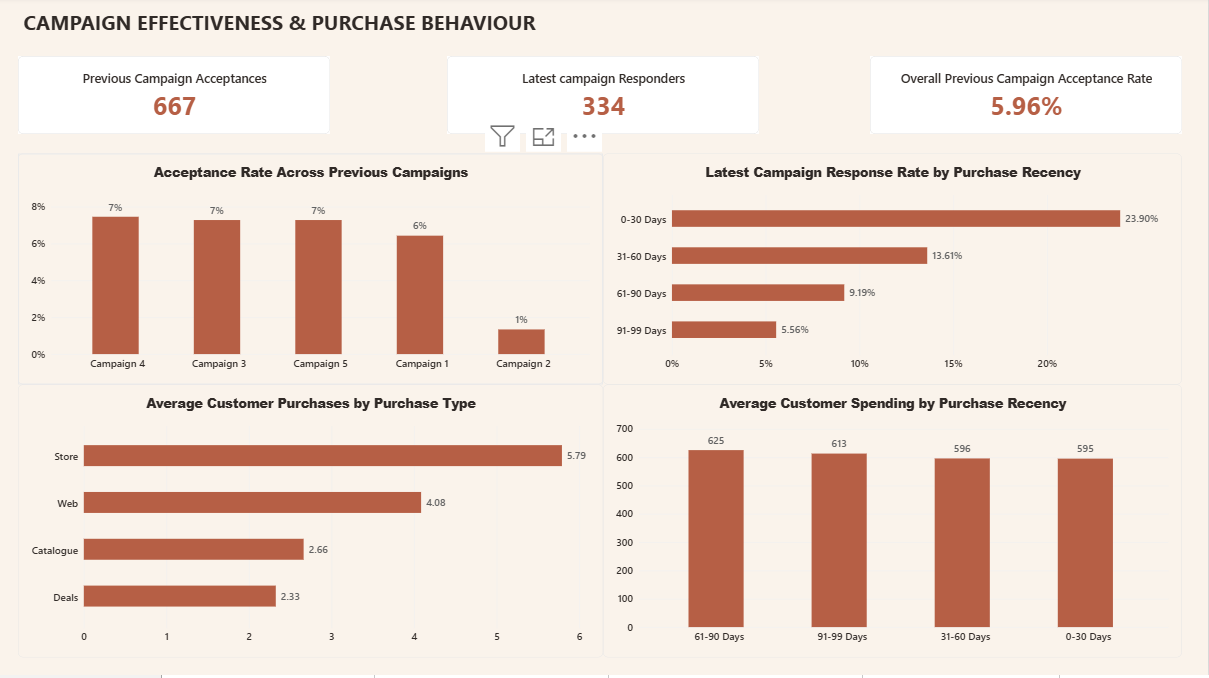

Layout of this report page (visuals, bound fields, positions):
{"tool":"powerbi","page":{"name":"Campaign Effectiveness ","canvas":[1920,1080],"ordinal":2},"visuals":[{"type":"textbox","box":[28.6,19.1,856.5,57.3],"z":0},{"type":"textbox","box":[16.7,76.3,622.7,64.4],"z":1000},{"type":"cardVisual","fields":{"Data":["Marketing Performance.Previous Campaign Acceptances"]},"box":[28.6,95.4,496.3,124.1],"z":2000},{"type":"cardVisual","fields":{"Data":["Marketing Performance.Latest campaign Responders"]},"box":[711,95.4,496.3,124.1],"z":3000},{"type":"cardVisual","fields":{"Data":["Marketing Performance.Previous Campaign Acceptance Rate"]},"box":[1383.8,95.4,496.3,124.1],"z":4000},{"type":"clusteredColumnChart","title":"Acceptance Rate Across Previous Campaigns","fields":{"Category":["Campaigns.Campaign"],"Y":["Marketing Performance.Campaign Acceptance Rate"]},"box":[28.6,250.5,930.5,367.4],"z":7000},{"type":"clusteredBarChart","title":"Average Customer Purchases by Purchase Type","fields":{"Category":["Purchase Types.Purchase Type"],"Y":["Purchase Types.Average Purchases by Type"]},"box":[28.6,618,930.5,434.2],"z":8000},{"type":"clusteredColumnChart","title":"Average Customer Spending by Purchase Recency","fields":{"Category":["Marketing Performance.Recency Group"],"Y":["Marketing Performance.Average Customer Spending"]},"box":[959.1,618,921,434.2],"z":9000},{"type":"clusteredBarChart","title":"Latest Campaign Response Rate by Purchase Recency","fields":{"Category":["Marketing Performance.Recency Group"],"Y":["Marketing Performance.Campaign Respond Rate"]},"box":[959.1,250.5,921,367.4],"z":10000}]}

Visuals, with their boxes in screenshot pixels (x1, y1, x2, y2), scaled from the page's 1920x1080 canvas onto the 1209x678 screenshot:
textbox: 18/12/557/48
textbox: 11/48/403/88
cardVisual - Marketing Performance.Previous Campaign Acceptances: 18/60/331/138
cardVisual - Marketing Performance.Latest campaign Responders: 448/60/760/138
cardVisual - Marketing Performance.Previous Campaign Acceptance Rate: 871/60/1184/138
"Acceptance Rate Across Previous Campaigns" clusteredColumnChart: 18/157/604/388
"Average Customer Purchases by Purchase Type" clusteredBarChart: 18/388/604/661
"Average Customer Spending by Purchase Recency" clusteredColumnChart: 604/388/1184/661
"Latest Campaign Response Rate by Purchase Recency" clusteredBarChart: 604/157/1184/388
